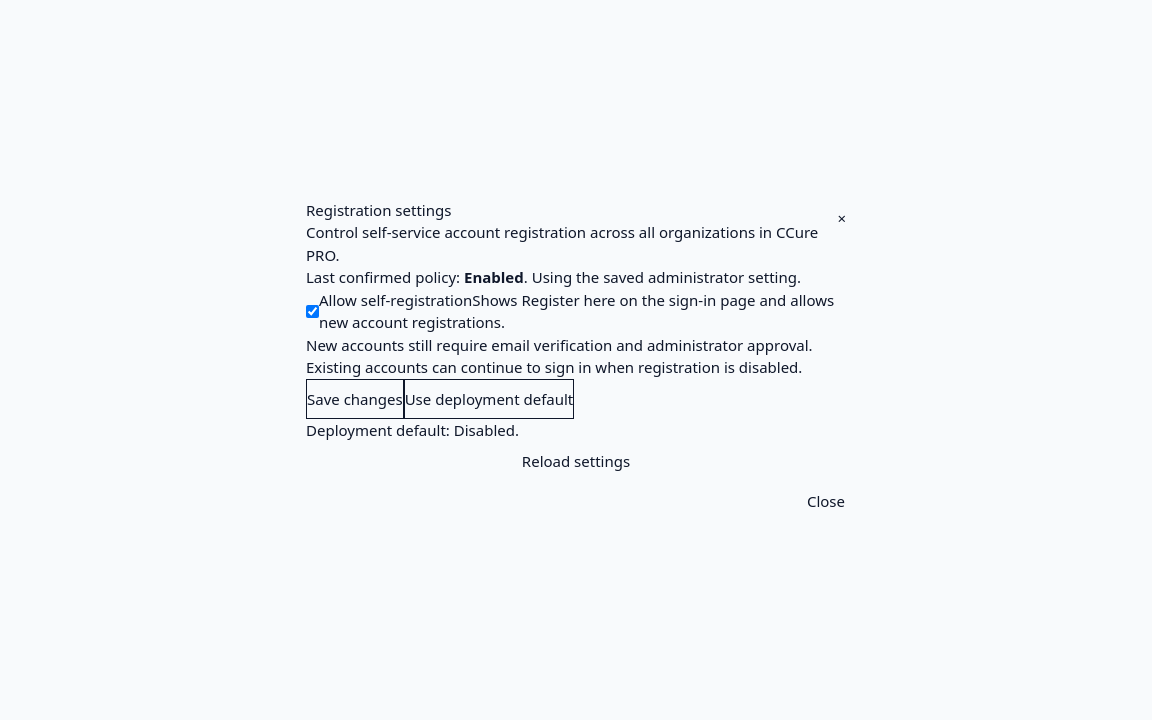
Test case: Registration Settings › can disable a saved enabled policy
The image size is (1152, 720).
Click the checkbox.
click(312, 311)  # box [306,305,319,318]
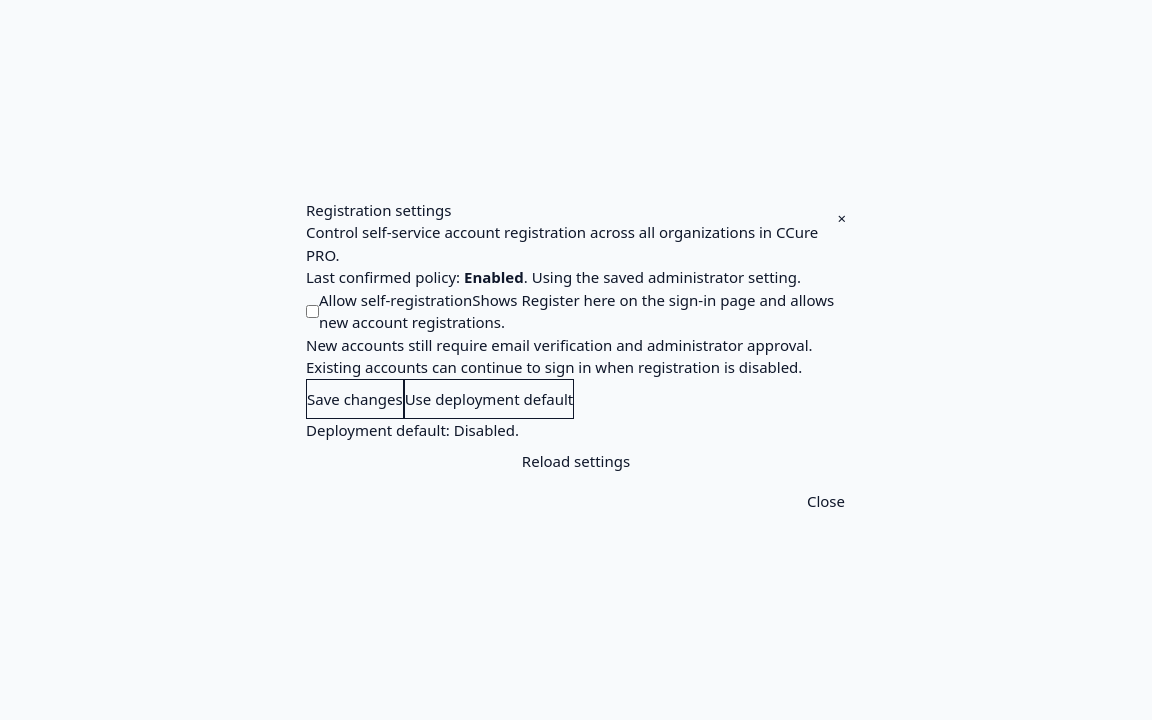
Click the button "Save changes".
click(355, 399)  # box [306,379,404,419]
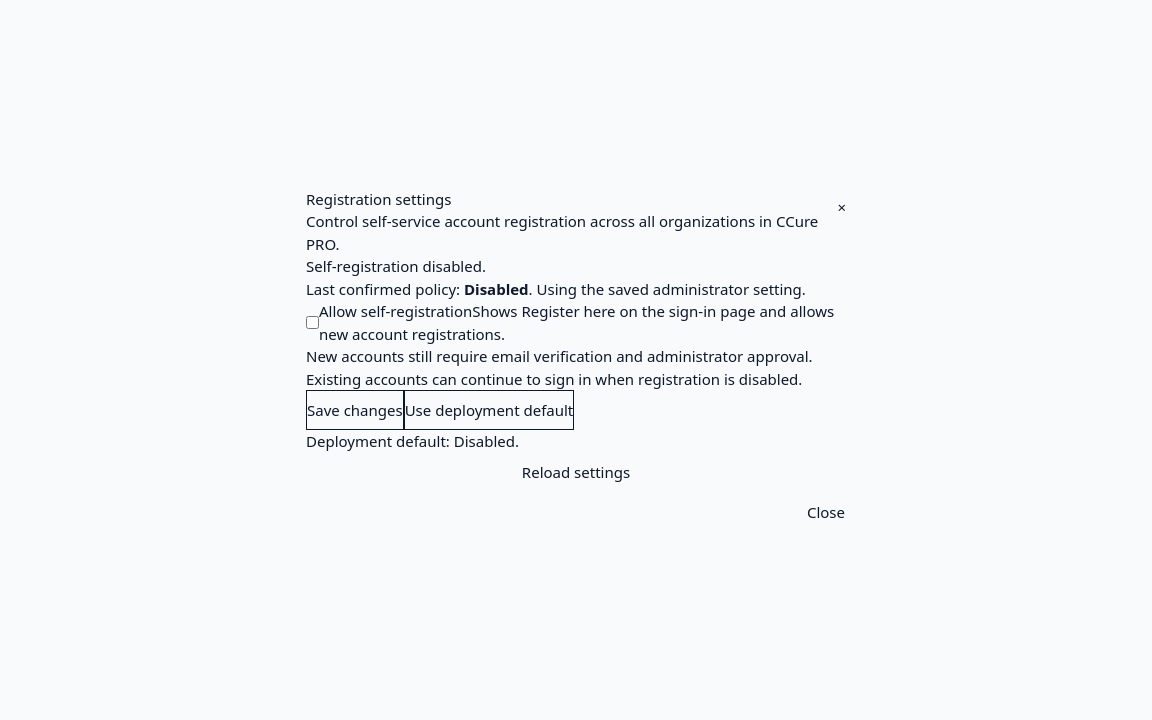
Expected: the text "Self-registration disabled." is shown, [306,256,486,276]
